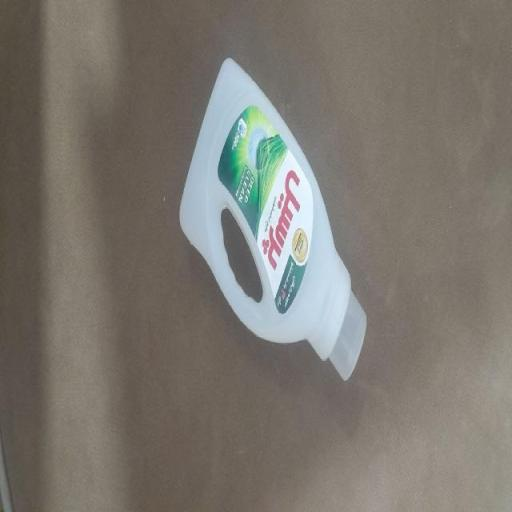plastic: (178, 55, 367, 382)
